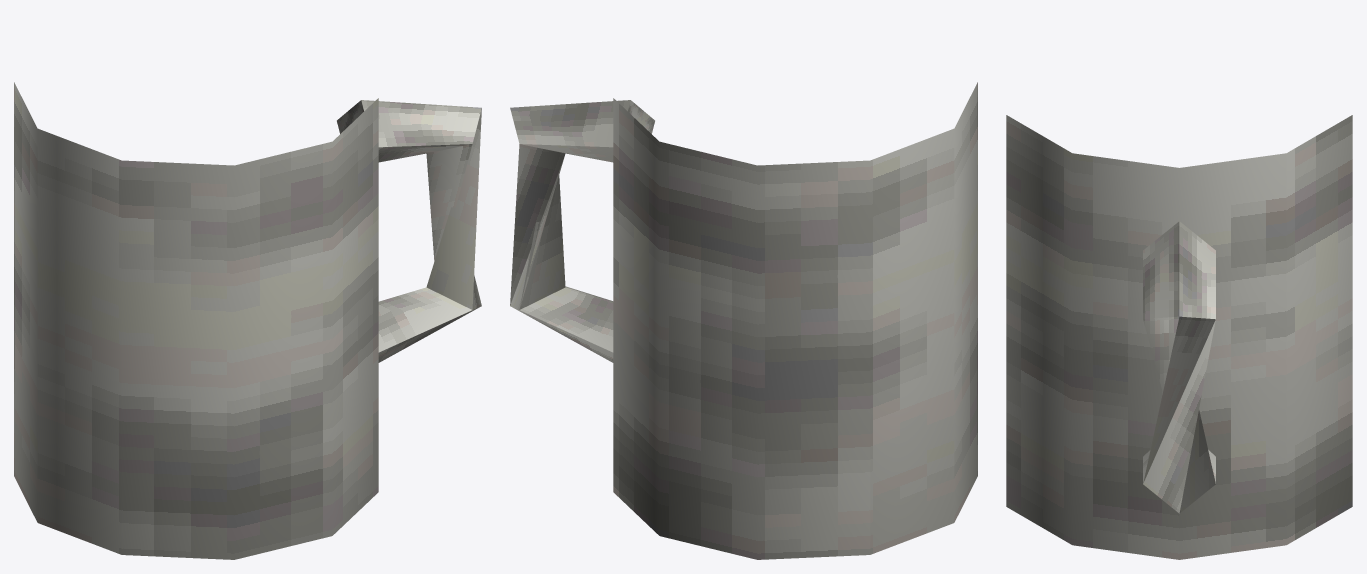
The model's file is mug.glb.
The picture shows the model from 3 angles, left to right: view 1: azimuth 30°, elevation 25°; view 2: azimuth 150°, elevation 25°; view 3: azimuth 270°, elevation 25°; orthographic projection.
Parts seen in each view (by area): view 1: mug; view 2: mug; view 3: mug.
Boxes of the visible parts, x1,y1,x2,y2 form: mug: [14, 82, 481, 559]; mug: [510, 82, 977, 559]; mug: [1006, 115, 1352, 559].
Size of the model in its own units: 0.112 by 0.095 by 0.0761.
Materials: 1 (1 with a texture image).
